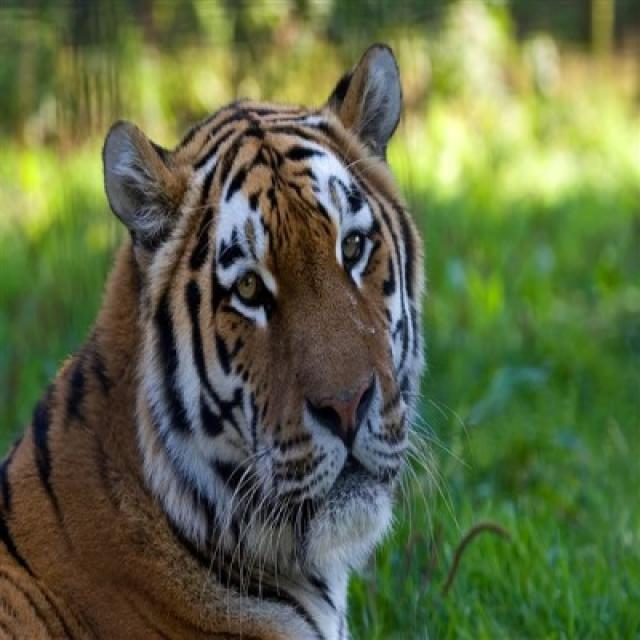Tiger: (0, 40, 429, 638)
